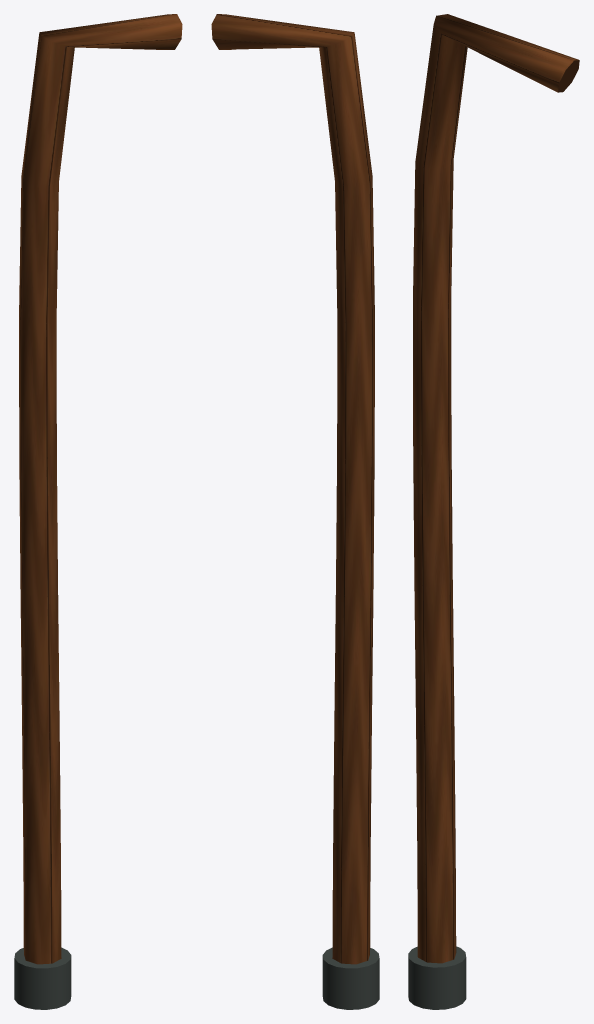
The model's file is field-medicine-and-recovery-walking-stick-9679c495__3047.glb.
3 views of the same model, side by side, from view 1: azimuth 30°, elevation 25°; view 2: azimuth 150°, elevation 25°; view 3: azimuth 330°, elevation 25° (orthographic). The views are drawn at different scales.
Visible parts, largest first — view 1: walking-stick; view 2: walking-stick; view 3: walking-stick.
Part boxes in pixels (box(x1,y1,x2,y2)): walking-stick: box(14, 14, 182, 1009); walking-stick: box(211, 14, 379, 1009); walking-stick: box(408, 14, 579, 1009).
Size of the model in its own units: 0.1604 by 0.9266 by 0.05.
2 materials, 1 textured.
